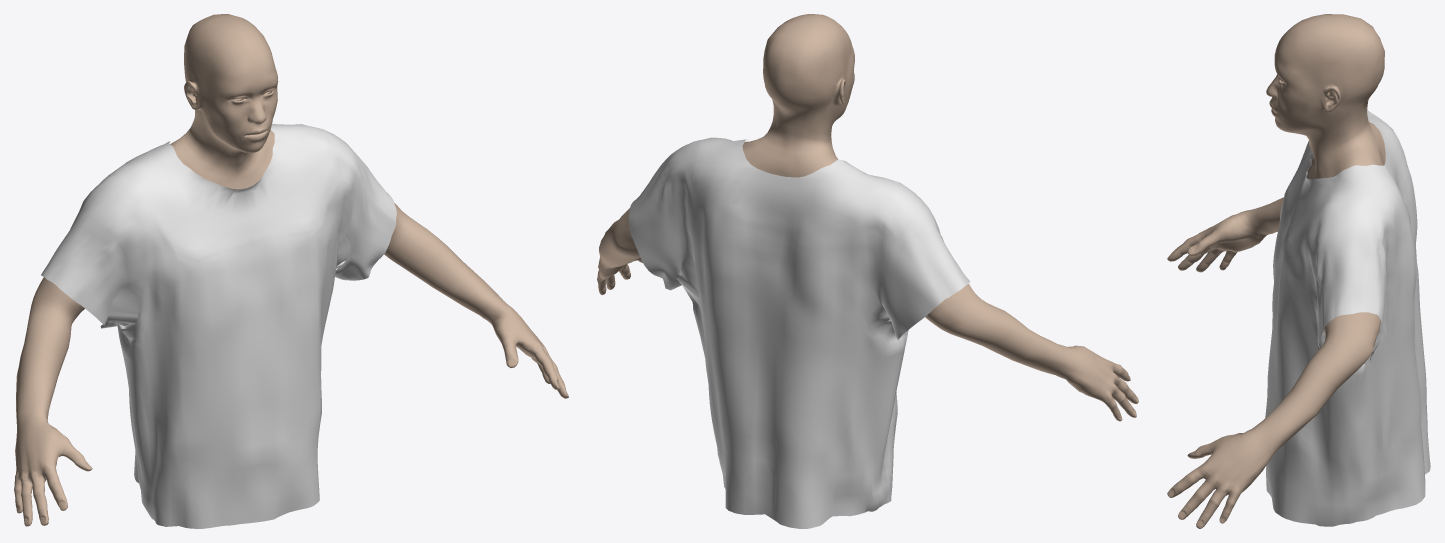
The picture shows the model from 3 angles, left to right: view 1: azimuth 30°, elevation 25°; view 2: azimuth 150°, elevation 25°; view 3: azimuth 270°, elevation 25°; orthographic projection. The views are drawn at different scales.
Parts seen in each view (by area): view 1: Cube, Base; view 2: Cube, Base; view 3: Cube, Base.
Boxes of the visible parts, x1,y1,x2,y2 form: Cube: (41, 123, 396, 528); Base: (14, 14, 568, 526); Cube: (628, 137, 970, 528); Base: (597, 14, 1138, 421); Cube: (1265, 110, 1430, 526); Base: (1167, 14, 1385, 528).
Size of the model in its own units: 9.95 by 8.48 by 4.28.
